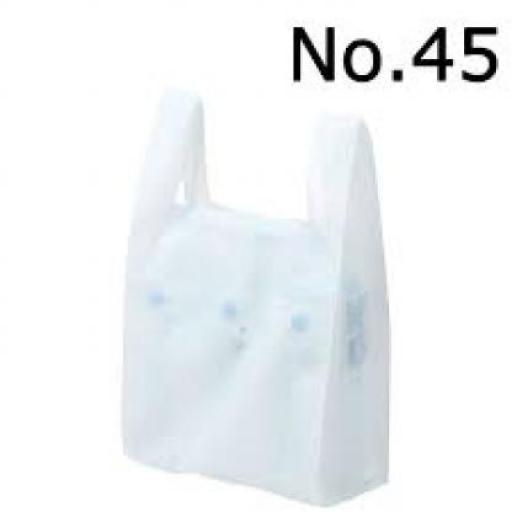plastic: (118, 86, 389, 501)
